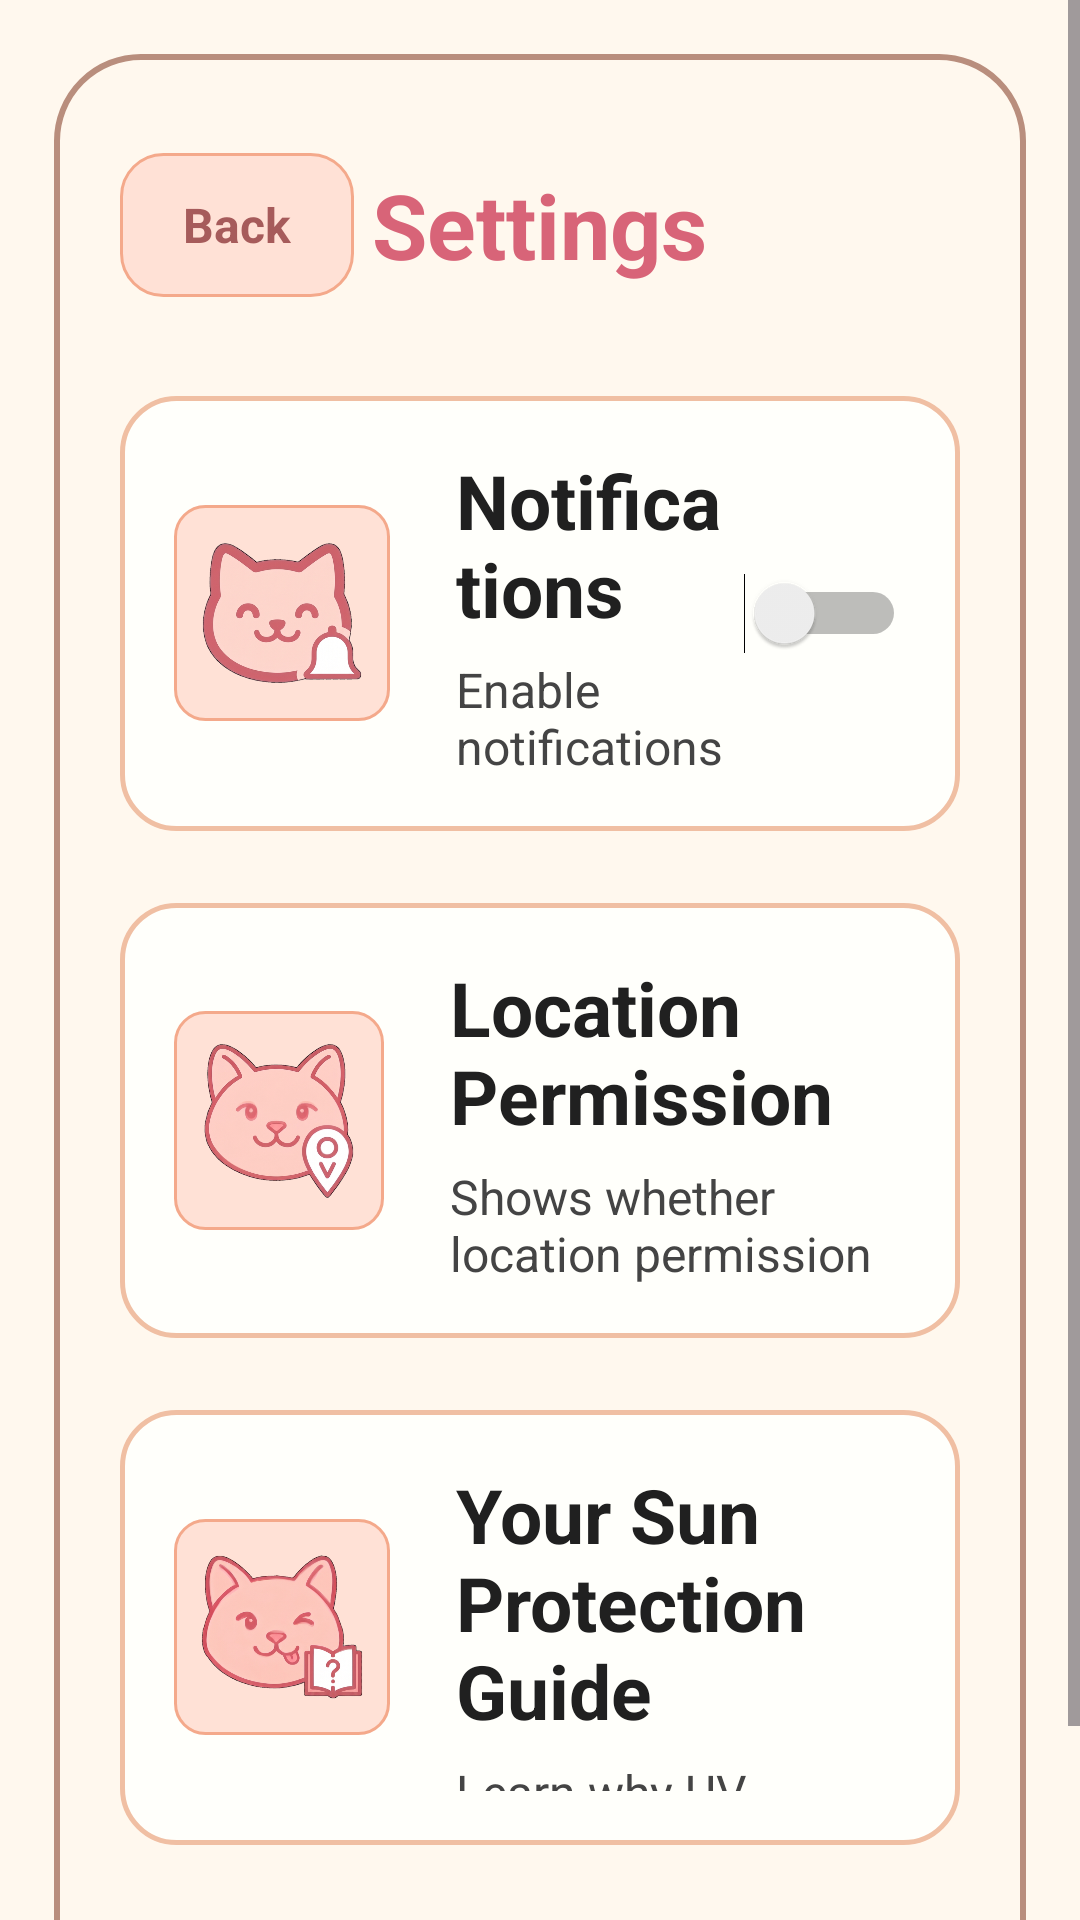

Icons on this 1080w x 1920h Android screen, each with the point to tap as point (x, y):
Help icon: point (282, 1627)
